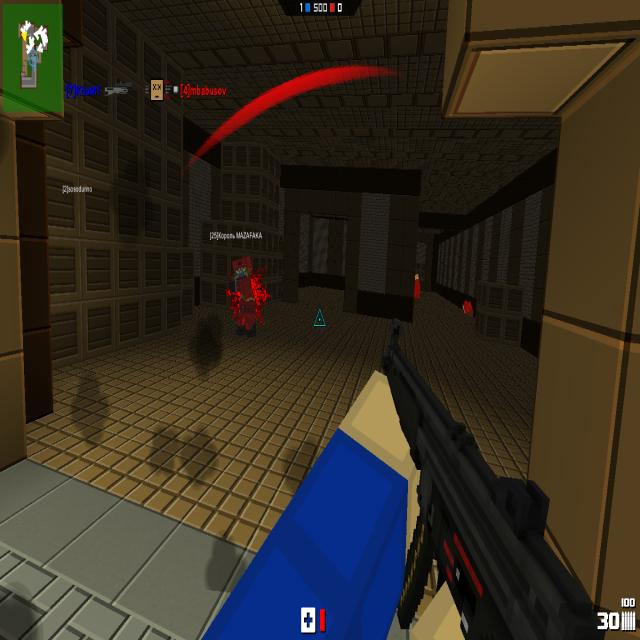enemy: (230, 255, 255, 340), (414, 272, 420, 299)
